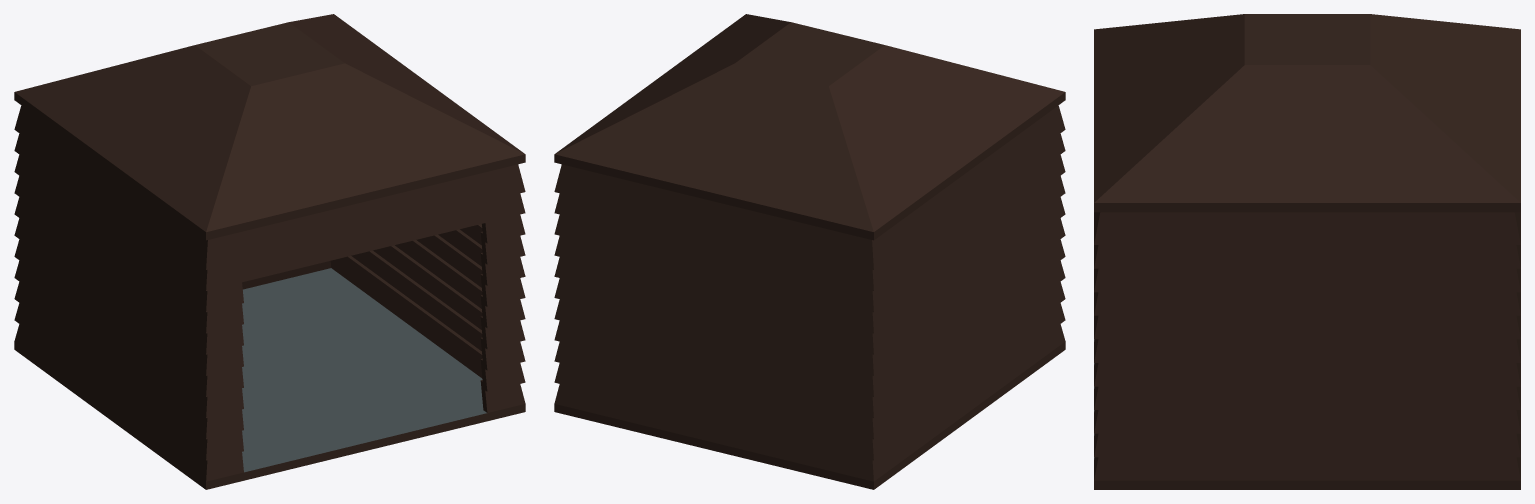
File: garage.obj
The picture shows the model from 3 angles, left to right: view 1: azimuth 30°, elevation 25°; view 2: azimuth 150°, elevation 25°; view 3: azimuth 270°, elevation 25°; orthographic projection. The views are drawn at different scales.
Visible parts, largest first — view 1: Plane.001, Plane.002, Plane; view 2: Plane.001, Plane.002, Plane; view 3: Plane.001, Plane.002, Plane.
Part boxes in pixels (x1=…): Plane.001: x1=14, y1=105, x2=525, y2=481; Plane.002: x1=14, y1=14, x2=525, y2=240; Plane: x1=14, y1=268, x2=525, y2=489; Plane.001: x1=554, y1=105, x2=1065, y2=481; Plane.002: x1=554, y1=14, x2=1065, y2=240; Plane: x1=554, y1=341, x2=1065, y2=489; Plane.001: x1=1094, y1=212, x2=1520, y2=480; Plane.002: x1=1094, y1=14, x2=1520, y2=212; Plane: x1=1094, y1=339, x2=1520, y2=489.
Bounding box in the file's own units: 5.29 × 5.16 × 5.49.
